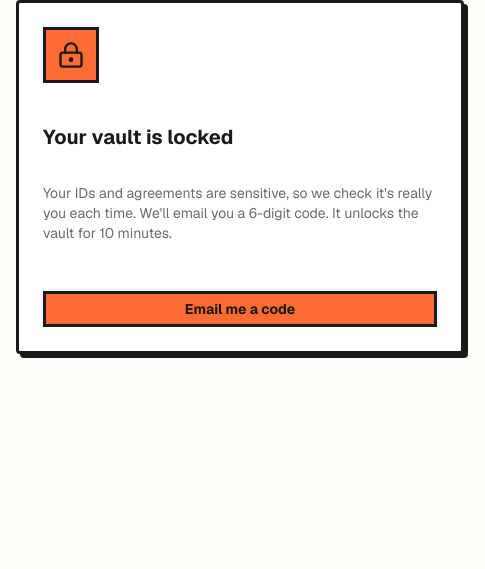
Test: VaultUnlockCard › shows the error and stays locked on a wrong code
Click the button "Email me a code" at (240,309), box left=43, top=291, right=437, bottom=327
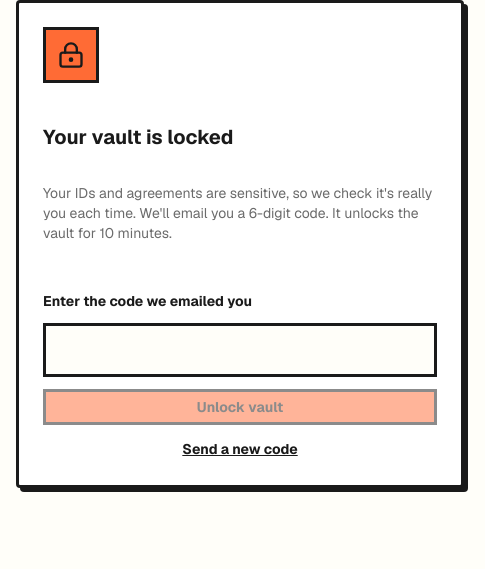
Type "000000" into the field labelled "Enter the code we emailed you" at (240,350), box left=43, top=323, right=437, bottom=377
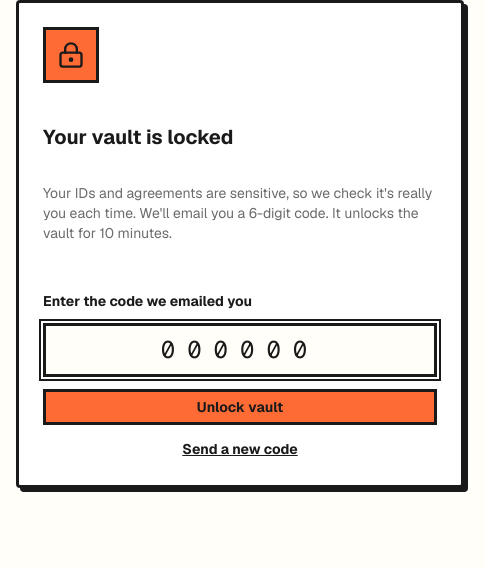
Click the button "Unlock vault" at (240,407), box left=43, top=389, right=437, bottom=425
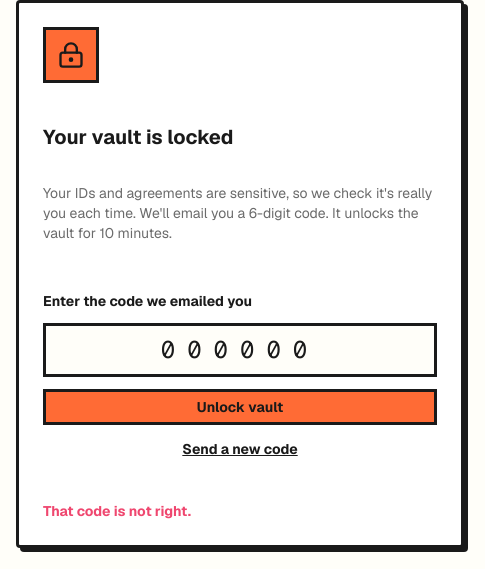
Check: the message reads "That code is not right.", box left=43, top=502, right=191, bottom=520
